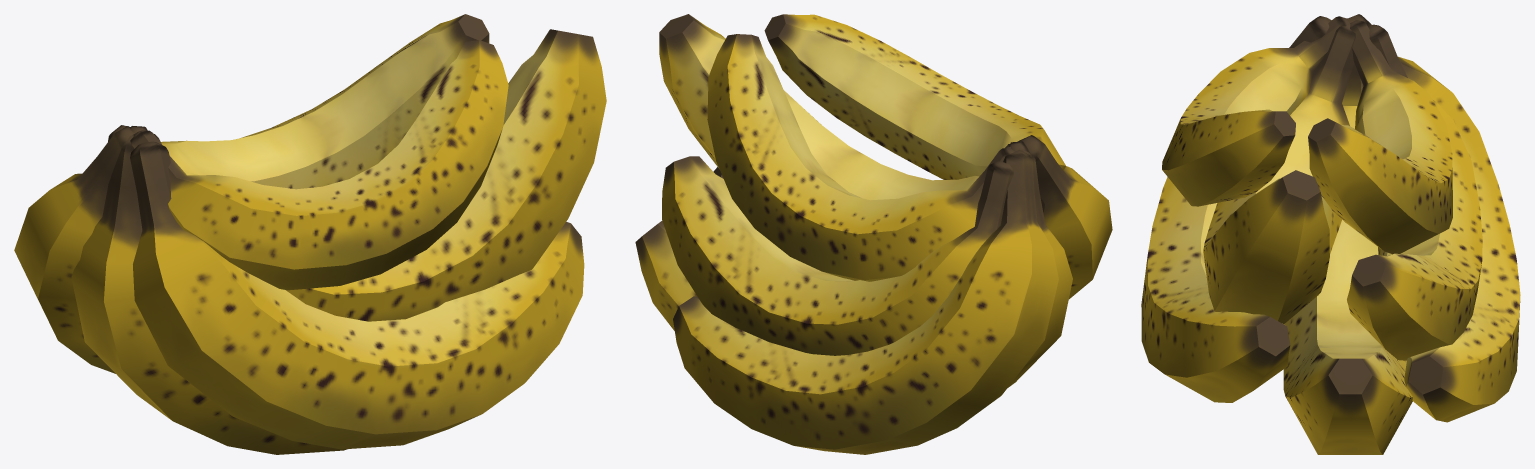
File: banana.glb
The picture shows the model from 3 angles, left to right: view 1: azimuth 30°, elevation 25°; view 2: azimuth 150°, elevation 25°; view 3: azimuth 270°, elevation 25°; orthographic projection. The views are drawn at different scales.
Parts seen in each view (by area): view 1: banana.001; view 2: banana.001; view 3: banana.001.
Part boxes in pixels (x1,y1,x2,y2): banana.001: [14, 14, 606, 454]; banana.001: [635, 14, 1112, 454]; banana.001: [1141, 14, 1520, 454].
Size of the model in its own units: 0.5385 by 0.4157 by 0.3909.
1 material, 1 textured.
